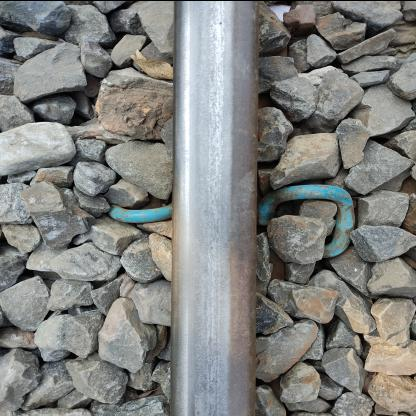Non Defective: (84, 158, 380, 274)
